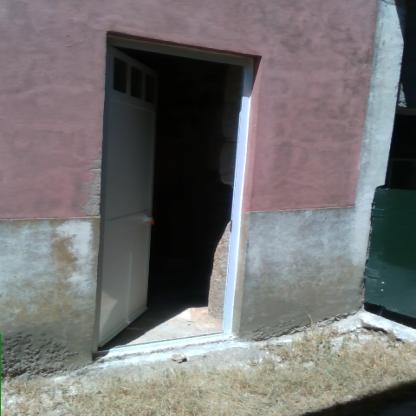semi: (107, 34, 268, 360)
